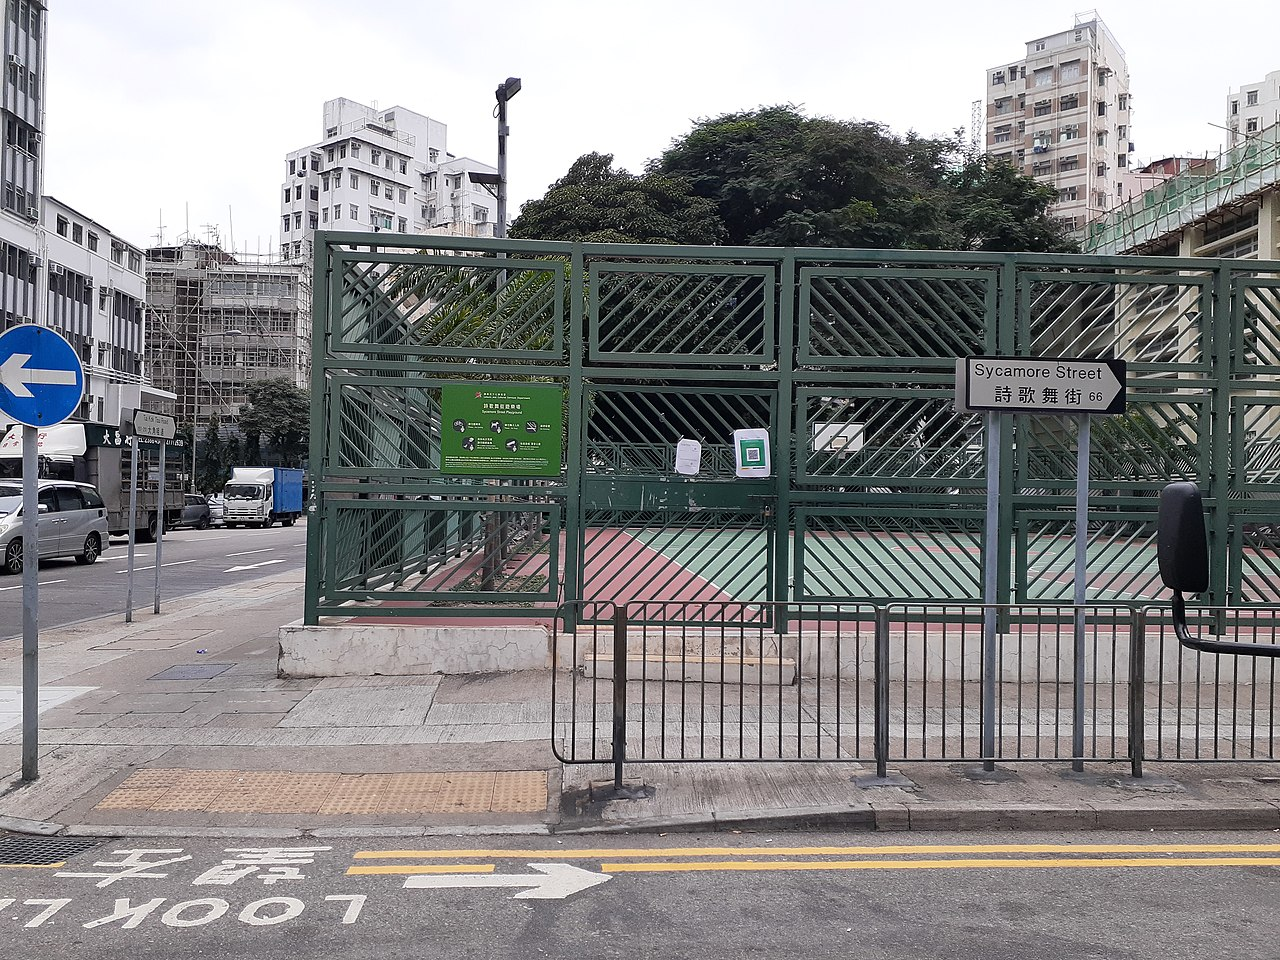Turn Left: (0, 323, 92, 428)
